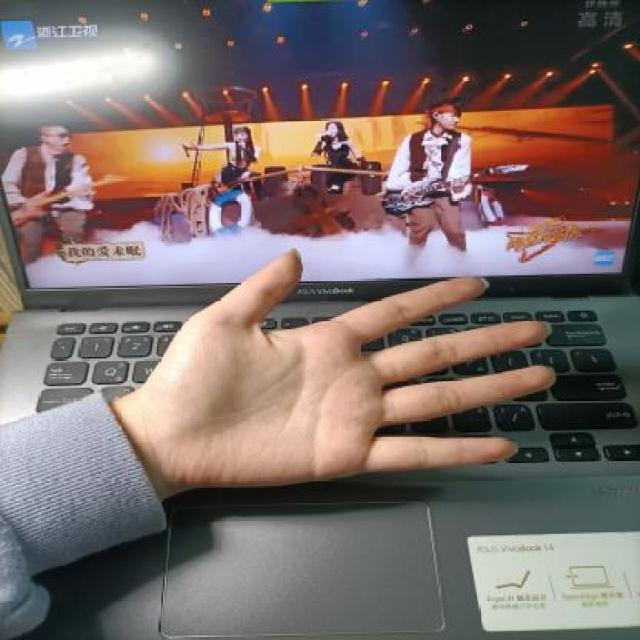bare_hand: (99, 230, 576, 512)
